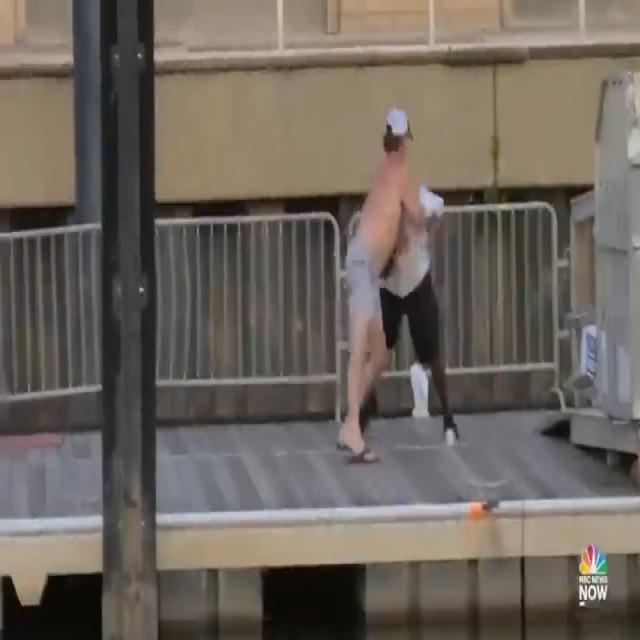fight: (338, 100, 463, 472)
